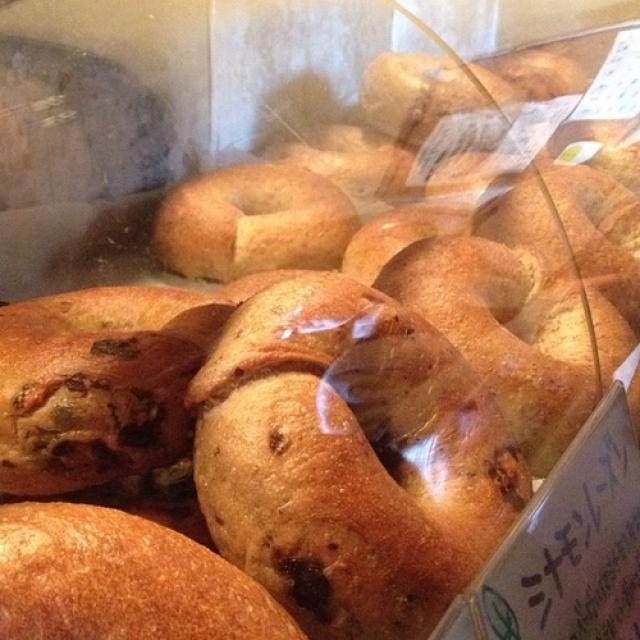面包点心: (5, 10, 626, 634)
